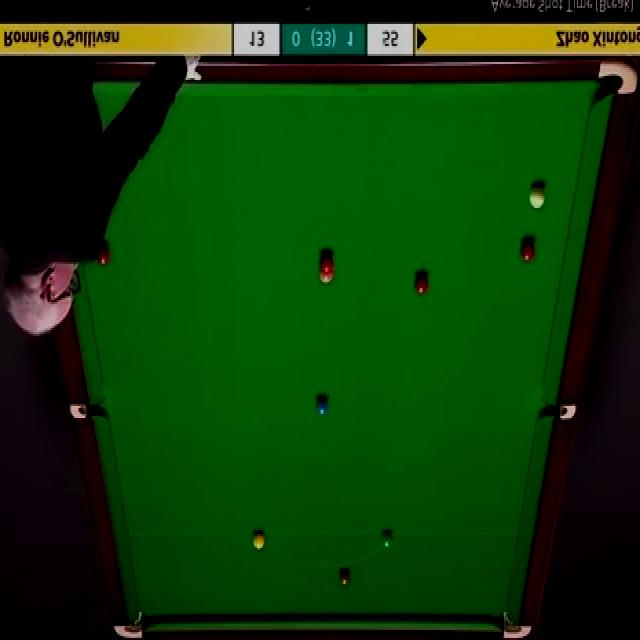blue-ball: (316, 395, 327, 415)
brown-ball: (336, 567, 352, 587)
green-ball: (380, 530, 393, 551)
pink-ball: (318, 272, 336, 284)
red-ball: (520, 238, 536, 262), (97, 241, 110, 270), (319, 249, 335, 272), (414, 273, 428, 295)
white-ball: (530, 186, 548, 211)
yellow-ball: (251, 530, 265, 551)
